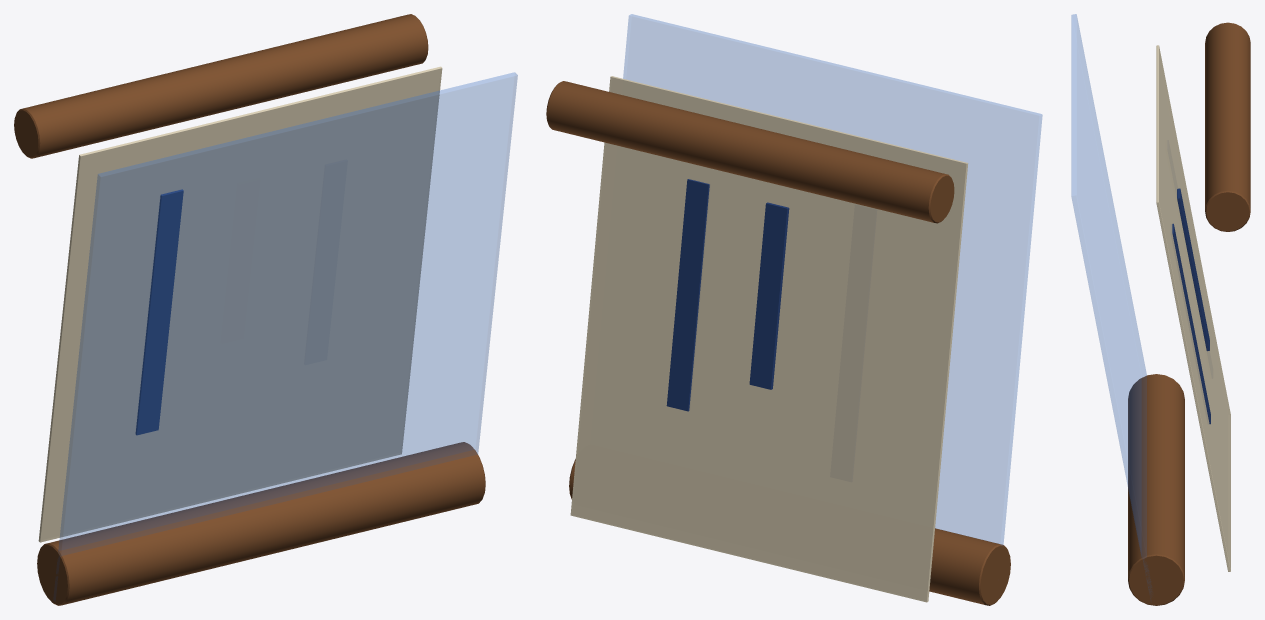
File: grand_scroll.glb
3 renders of one model, left to right at view 1: azimuth 30°, elevation 25°; view 2: azimuth 150°, elevation 25°; view 3: azimuth 270°, elevation 25°, orthographic. The views are drawn at different scales.
Visible parts, largest first — view 1: team_shield, sheet, roll_bottom, roll_top, ink_stroke_1; view 2: sheet, team_shield, roll_top, ink_stroke_3, roll_bottom, ink_stroke_2; view 3: team_shield, roll_bottom, sheet, roll_top, ink_stroke_2, ink_stroke_3.
Part boxes in pixels (<box>): team_shield: <box>54,72,517,600</box>; sheet: <box>38,66,442,542</box>; roll_bottom: <box>37,442,485,605</box>; roll_top: <box>14,14,428,158</box>; ink_stroke_1: <box>135,189,183,435</box>; sheet: <box>570,76,968,602</box>; team_shield: <box>623,14,1042,545</box>; roll_top: <box>546,81,954,223</box>; ink_stroke_3: <box>666,179,709,411</box>; roll_bottom: <box>569,459,1010,605</box>; ink_stroke_2: <box>749,202,789,389</box>; team_shield: <box>1071,14,1150,589</box>; roll_bottom: <box>1128,374,1184,605</box>; sheet: <box>1156,45,1230,571</box>; roll_top: <box>1205,22,1250,231</box>; ink_stroke_2: <box>1177,188,1209,351</box>; ink_stroke_3: <box>1172,223,1210,424</box>.
Size of the model in its own units: 1.5 by 1.59 by 0.6283.
